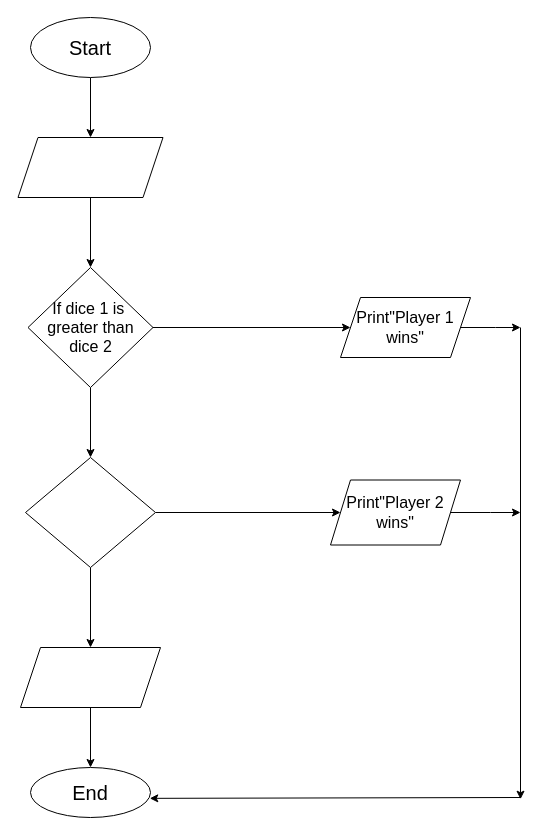
This 546x835 diagram has some shape labels left out. Each missing label, with the box of its shape:
Generate Dice1 and Dice 2: (17, 136, 163, 198)
If dice2 is greater than dice1: (24, 456, 156, 568)
Print"Tie": (20, 646, 160, 708)
